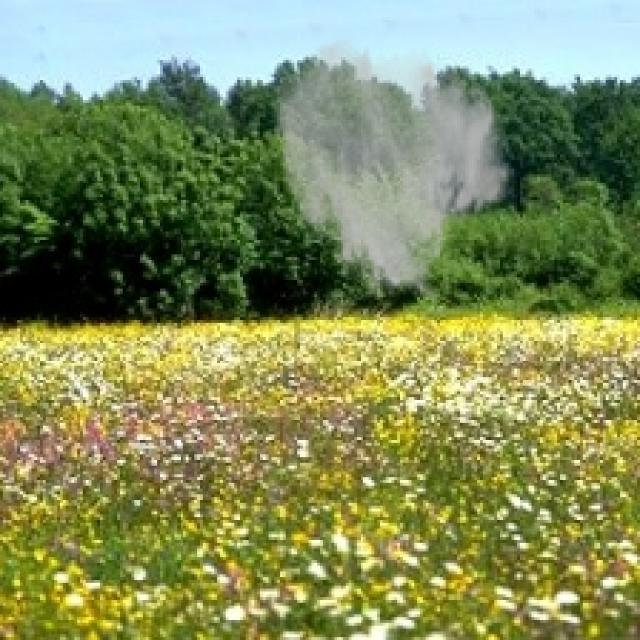smoke: (272, 34, 514, 309)
